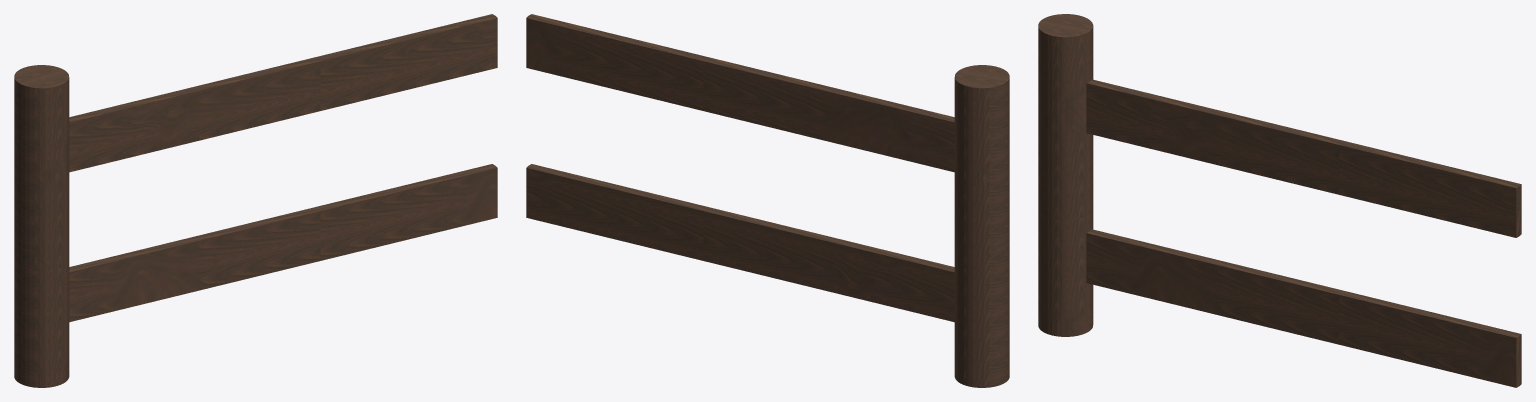
The model's file is wood_barrier_x.fbx.
3 renders of one model, left to right at view 1: azimuth 30°, elevation 25°; view 2: azimuth 150°, elevation 25°; view 3: azimuth 330°, elevation 25°, orthographic.
Parts seen in each view (by area): view 1: Cylinder; view 2: Cylinder; view 3: Cylinder.
Boxes of the visible parts, left/top/right/bottom form: Cylinder: left=14, top=14, right=497, bottom=387; Cylinder: left=526, top=14, right=1009, bottom=387; Cylinder: left=1038, top=14, right=1521, bottom=387.
Size of the model in its own units: 10.01 by 6 by 1.
1 material, 1 textured.
